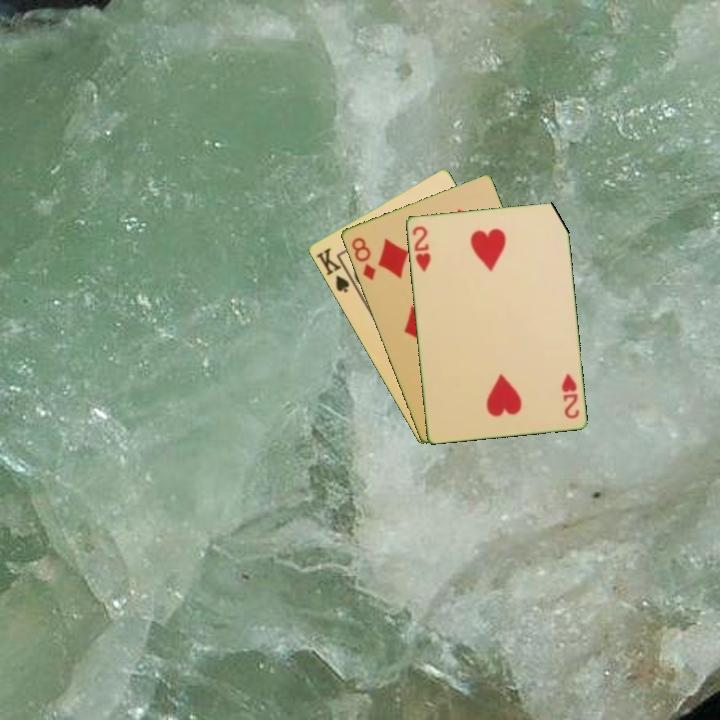2h: (408, 222, 433, 274), (558, 370, 582, 421)
8d: (347, 233, 378, 283)
Ks: (312, 244, 352, 296)
